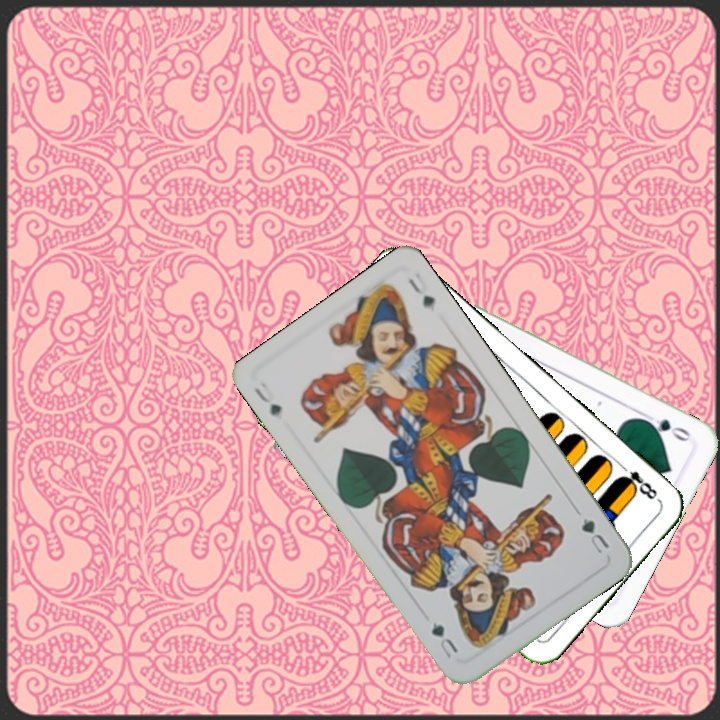E8: (614, 459, 662, 504)
GO: (638, 414, 693, 445)
GU: (577, 513, 612, 557), (250, 382, 285, 419)
